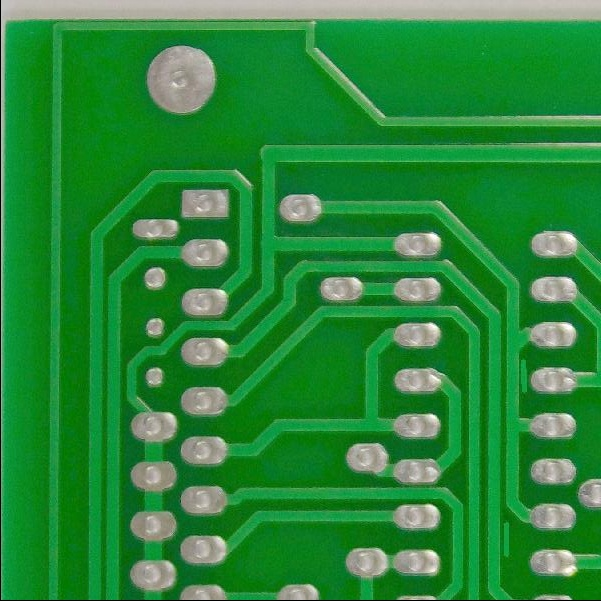spurious_copper: (512, 356, 535, 398), (495, 515, 514, 563)
